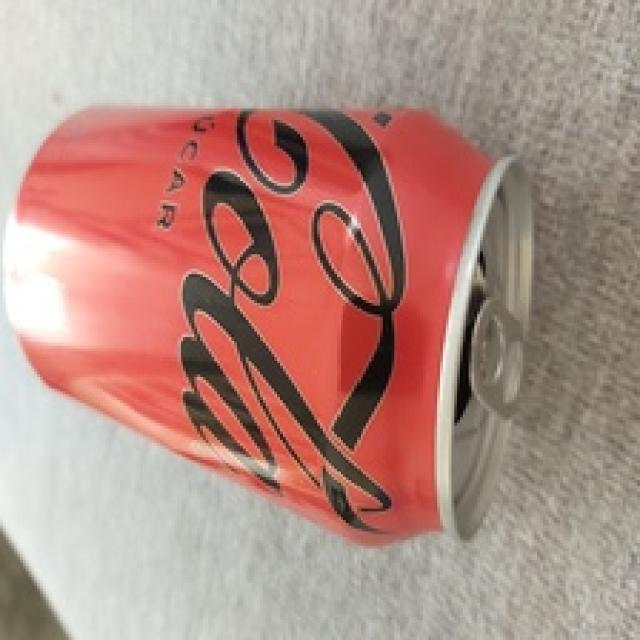recyclable: (9, 101, 540, 545)
